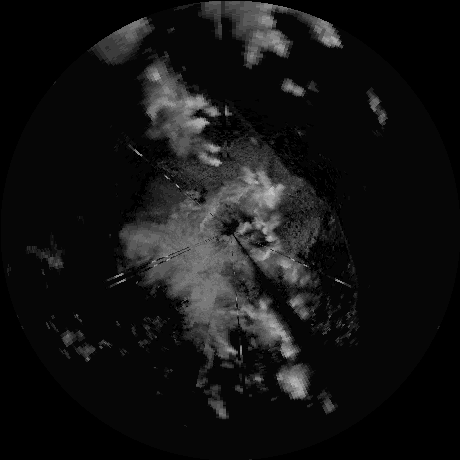frontgust: (330, 220, 359, 343)
